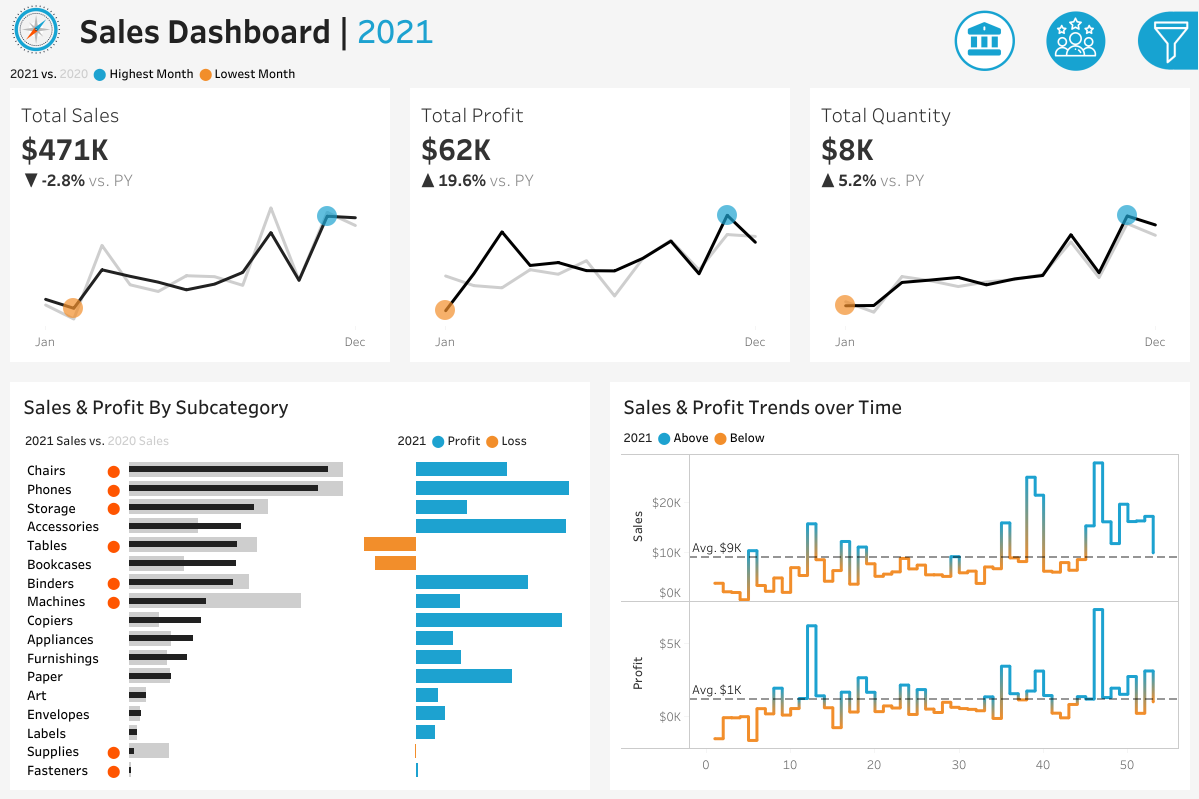

Layout of this report page (visuals, bound fields, positions):
{"tool":"tableau","page":{"name":"Sales Dashboard","canvas":[1200,800],"ordinal":1},"visuals":[{"type":"image","param":"Image/Icon - Logo.png","box":[0,0,73,59]},{"type":"text","box":[73,0,820,59]},{"type":"dashboard-object","box":[940,6,91,70]},{"type":"dashboard-object","box":[1031,6,91,70]},{"type":"blank","box":[952,10,237,86]},{"type":"worksheet","title":"Legend KPI","mark":"Automatic","box":[0,59,1200,29]},{"type":"worksheet","title":"KPI Sales","mark":"Automatic","rows":["Calculation_721701895347843083"],"cols":["Order Date"],"box":[0,88,400,284]},{"type":"worksheet","title":"KPI Profit","mark":"Automatic","rows":["Min/Max Sales (copy)_237846410425847814"],"cols":["Order Date"],"box":[400,88,400,284]},{"type":"worksheet","title":"KPI Quantity","mark":"Automatic","rows":["Min/Max Sales (copy) (copy)_237846410425856007"],"cols":["Order Date"],"box":[800,88,400,284]},{"type":"text","box":[952,96,237,34]},{"type":"parameter","param":"[Parameters].[Parameter 1]","box":[952,130,237,52]},{"type":"text","box":[952,182,237,29]},{"type":"filter","title":"KPI Sales","param":"[federated.1kpxa041aiai2y1cl4pui1t4eju9].[none:Category:nk]","box":[952,211,237,52]},{"type":"filter","title":"KPI Sales","param":"[federated.1kpxa041aiai2y1cl4pui1t4eju9].[none:Sub-Category:nk]","box":[952,263,237,52]},{"type":"blank","box":[952,315,237,60]},{"type":"text","box":[952,375,237,29]},{"type":"text","box":[17,389,566,34]},{"type":"text","box":[617,389,566,34]},{"type":"filter","title":"KPI Sales","param":"[federated.1kpxa041aiai2y1cl4pui1t4eju9].[none:Region:nk]","box":[952,404,237,52]},{"type":"worksheet","title":"Legend Subcategory","mark":"Automatic","box":[17,423,374,32]},{"type":"text","box":[391,423,192,32]},{"type":"text","box":[617,423,566,25]},{"type":"worksheet","title":"Weekly Trends","mark":"Automatic","rows":["Calculation_721701895334993921","CY Sales (copy)_237846410424180736"],"cols":["Order Date"],"box":[617,448,566,335]},{"type":"worksheet","title":"Subcategory Comparison","mark":"Bar","rows":["Sub-Category","Calculation_2435040078806671369"],"cols":["CY Sales (copy)_721701895335804930","Calculation_721701895334993921","CY Sales (copy)_237846410424180736"],"box":[17,455,566,327.9]},{"type":"filter","title":"KPI Sales","param":"[federated.1kpxa041aiai2y1cl4pui1t4eju9].[none:State:nk]","box":[952,456,237,52]},{"type":"filter","title":"KPI Sales","param":"[federated.1kpxa041aiai2y1cl4pui1t4eju9].[none:City:nk]","box":[952,508,237,52]}]}

Visuals, with their boxes in screenshot pixels (x1, y1, x2, y2), scaled from the page's 1200x800 canvas onto the 1199x799 screenshot:
image: bbox(0, 0, 73, 59)
text: bbox(73, 0, 892, 59)
dashboard-object: bbox(939, 6, 1030, 76)
dashboard-object: bbox(1030, 6, 1121, 76)
blank: bbox(951, 10, 1188, 96)
"Legend KPI" worksheet: bbox(0, 59, 1198, 88)
"KPI Sales" worksheet: bbox(0, 88, 400, 372)
"KPI Profit" worksheet: bbox(400, 88, 799, 372)
"KPI Quantity" worksheet: bbox(799, 88, 1198, 372)
text: bbox(951, 96, 1188, 130)
parameter: bbox(951, 130, 1188, 182)
text: bbox(951, 182, 1188, 211)
"KPI Sales" filter: bbox(951, 211, 1188, 263)
"KPI Sales" filter: bbox(951, 263, 1188, 315)
blank: bbox(951, 315, 1188, 375)
text: bbox(951, 375, 1188, 403)
text: bbox(17, 389, 583, 422)
text: bbox(616, 389, 1182, 422)
"KPI Sales" filter: bbox(951, 403, 1188, 455)
"Legend Subcategory" worksheet: bbox(17, 422, 391, 454)
text: bbox(391, 422, 583, 454)
text: bbox(616, 422, 1182, 447)
"Weekly Trends" worksheet: bbox(616, 447, 1182, 782)
"Subcategory Comparison" worksheet (Bar marks): bbox(17, 454, 583, 782)
"KPI Sales" filter: bbox(951, 455, 1188, 507)
"KPI Sales" filter: bbox(951, 507, 1188, 559)
